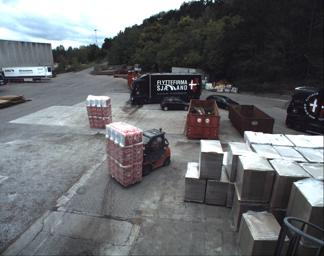rockwool_batts: (104, 119, 142, 186), (85, 91, 112, 125)
